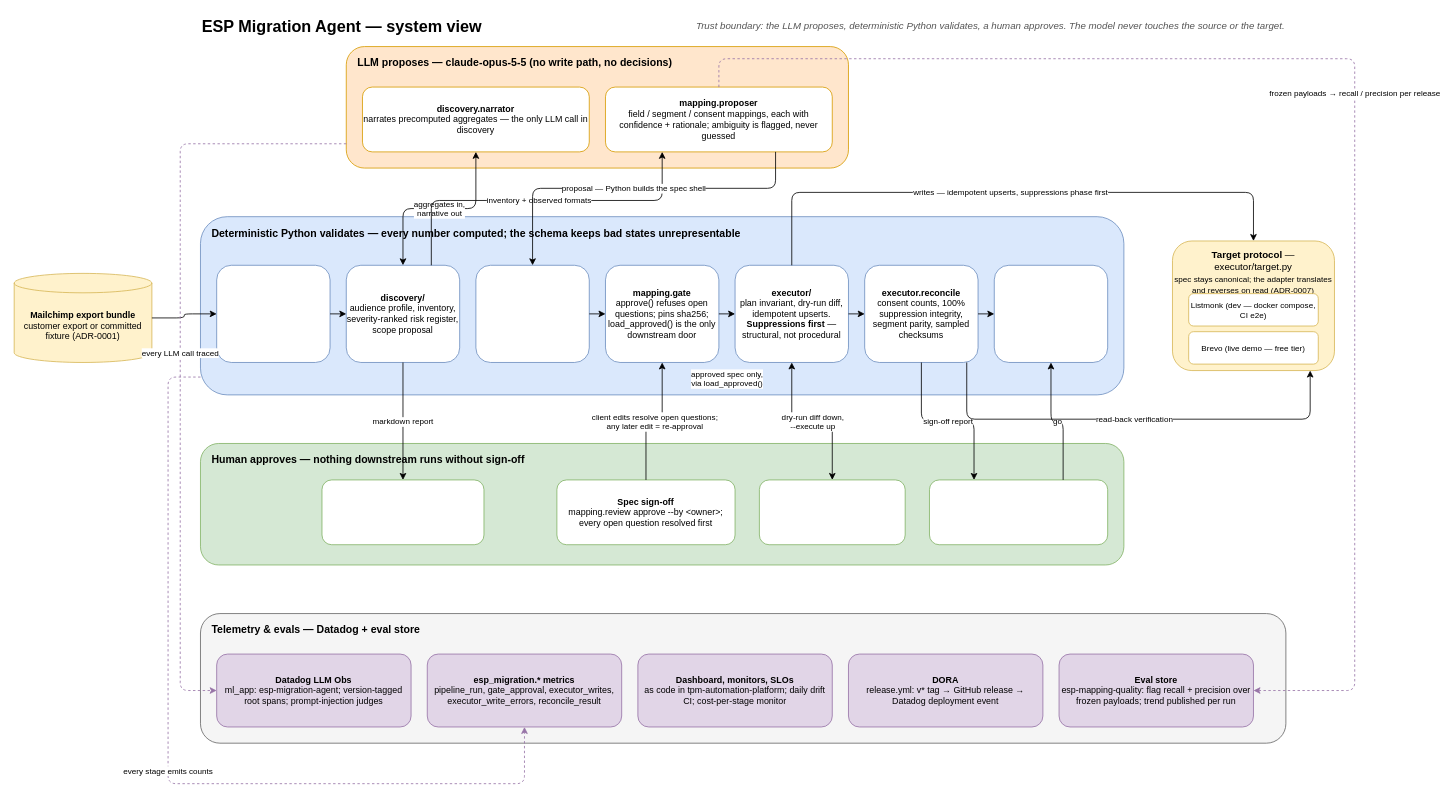
The diagram is 1454 pixels wide and 804 high, and some of its shapes have lost their labels. The centre of each missing label's shape, as x and y in pixels:
"Discovery review walk the client through risks, scope, consent semantics" goes at (x=402, y=512).
"Dry-run diff review no unexpected creates / updates" goes at (x=832, y=512).
"executor.cutover freeze window, final delta pass, sending ramp, rollback plan" goes at (x=1050, y=313).
"ingest/ deterministic bundle parsers; malformed input is a loud IngestError" goes at (x=273, y=313).
"Reconciliation sign-off PASS required; any FAIL stops the cutover clock" goes at (x=1018, y=512).
"specs/drafts/ pydantic MappingSpec YAML; Python owns the spec shell" goes at (x=532, y=313).
